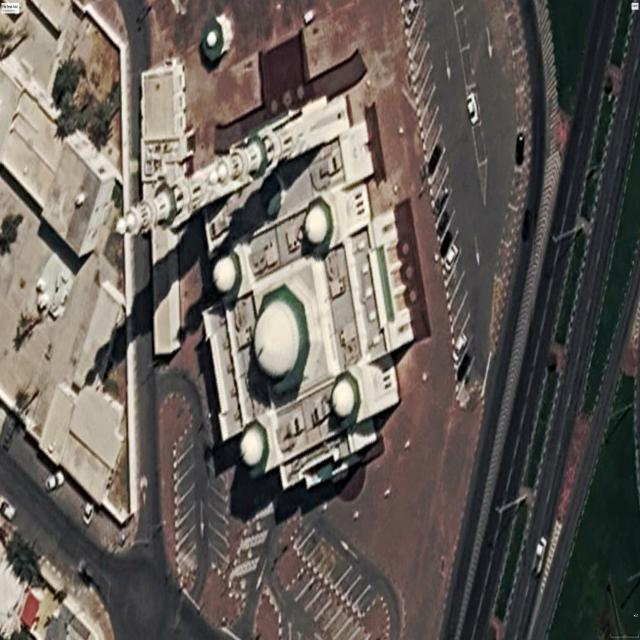Home: (118, 96, 420, 489)
